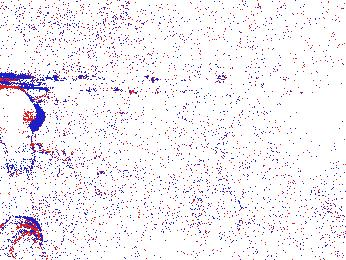flame jellyfish: (1, 83, 44, 178), (189, 185, 244, 245), (1, 215, 51, 260)
